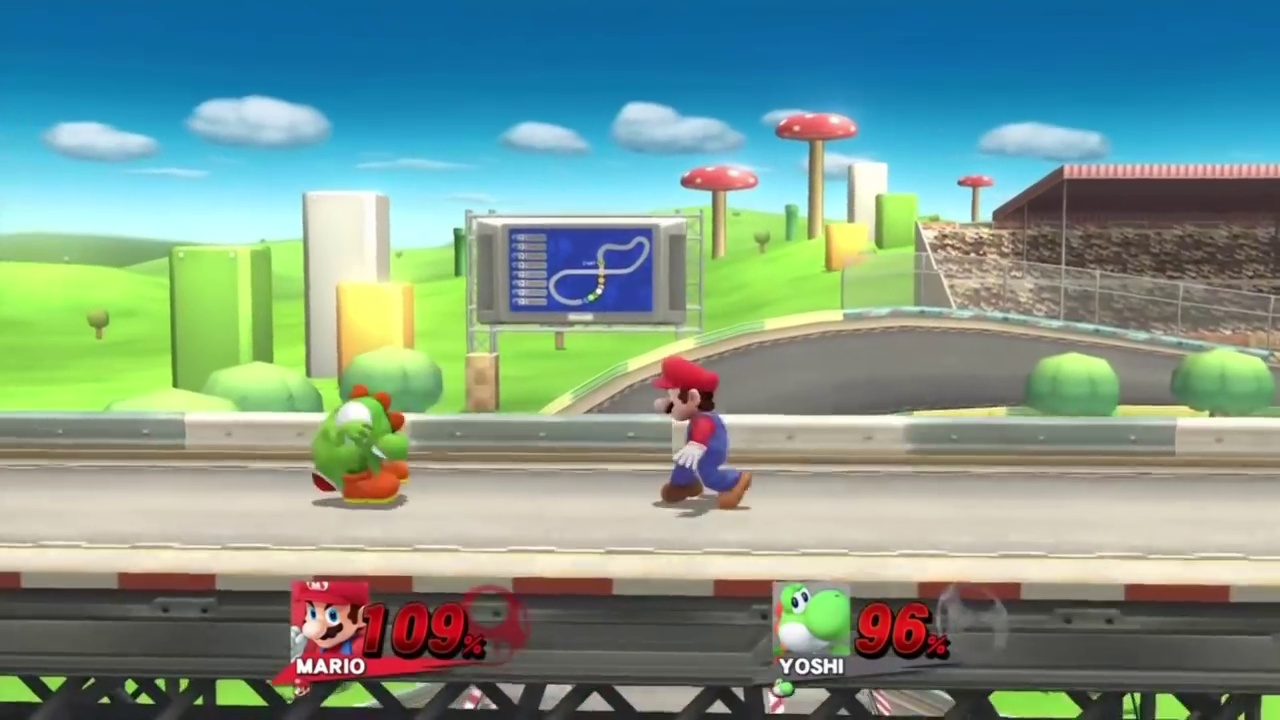Mario: (654, 358, 749, 508)
